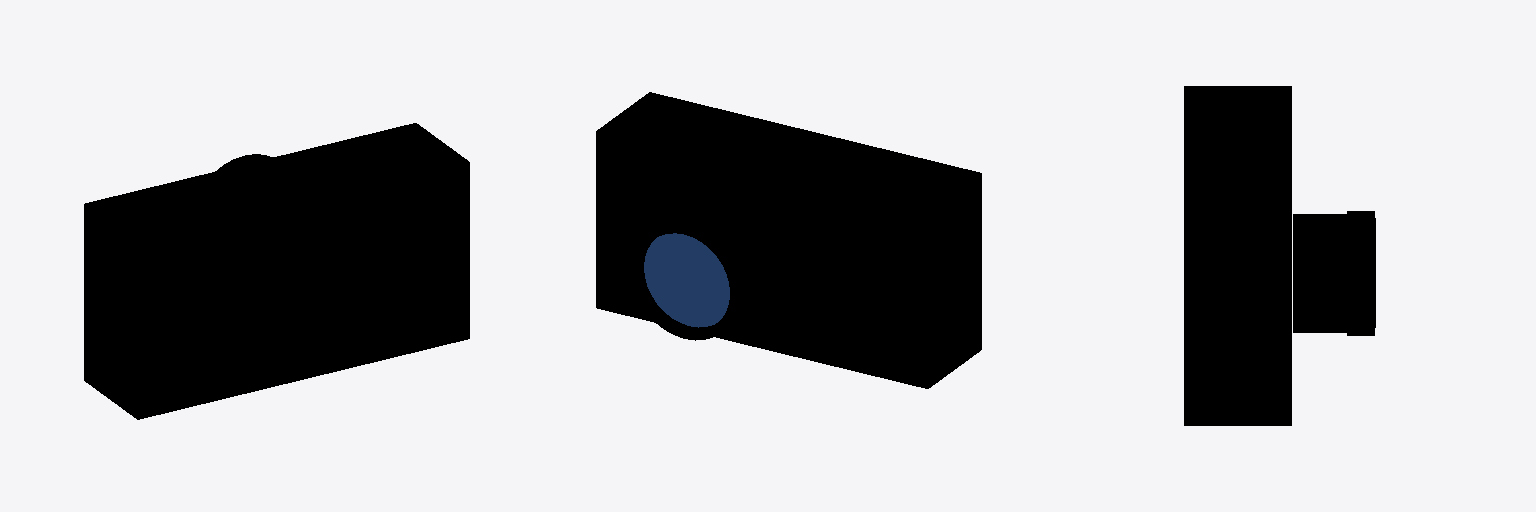
File: camera.obj
3 views of the same model, side by side, from view 1: azimuth 30°, elevation 25°; view 2: azimuth 150°, elevation 25°; view 3: azimuth 270°, elevation 25° (orthographic).
Visible parts, largest first — view 1: Plane_Plane.002; view 2: Plane_Plane.002, Circle, Circle.001; view 3: Plane_Plane.002, Circle.
Part boxes in pixels (x1,y1,x2,y2): Plane_Plane.002: (84, 123, 469, 419); Plane_Plane.002: (596, 92, 981, 388); Circle: (630, 197, 776, 340); Circle.001: (644, 233, 729, 327); Plane_Plane.002: (1184, 86, 1291, 425); Circle: (1293, 211, 1375, 335).
Bounding box in the file's own units: 0.1143 × 0.0582 × 0.057.